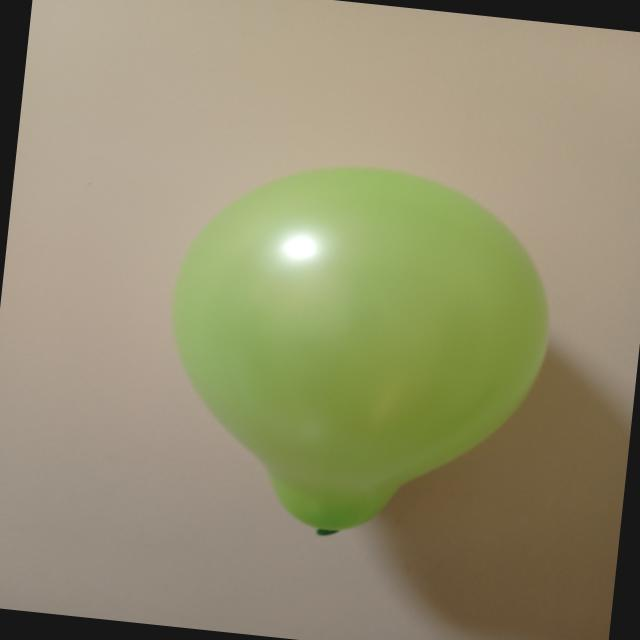balloon: (172, 167, 548, 535)
